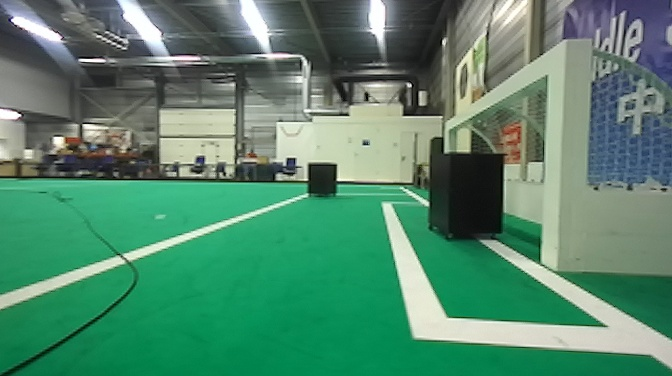goalpost: (544, 39, 597, 280), (440, 120, 459, 154)
